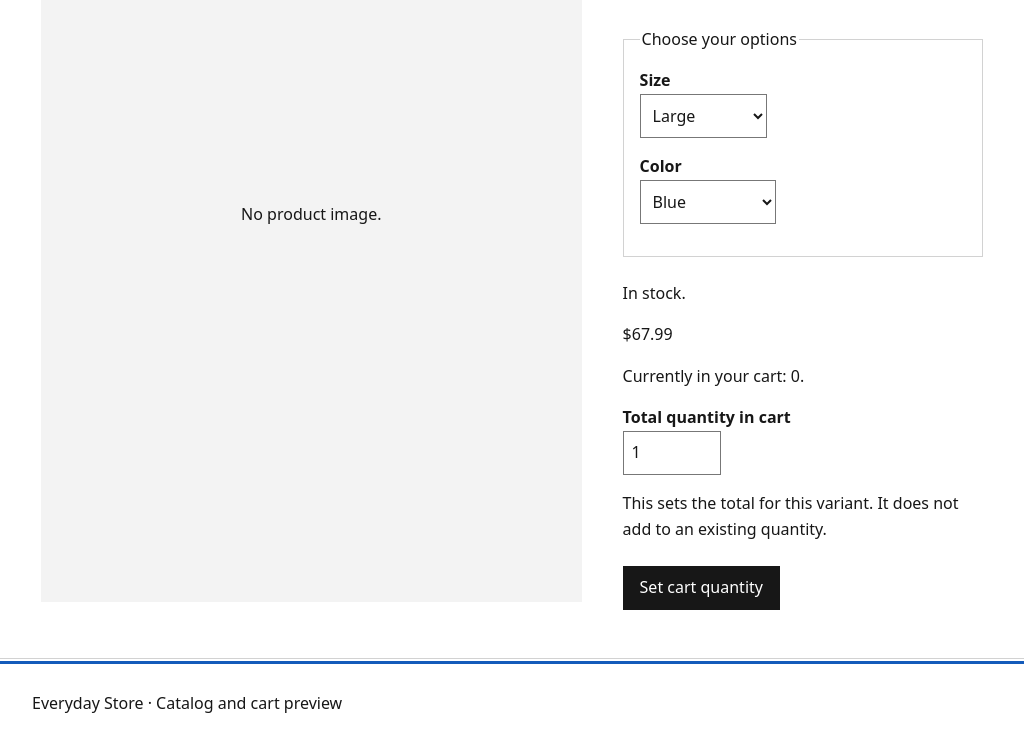
storefront composition › announces a removed line and moves focus to the cart heading
(page scrolled)
Click the button "Set cart quantity". click: point(701, 588)
box: [623,566,780,610]
(page scrolled)
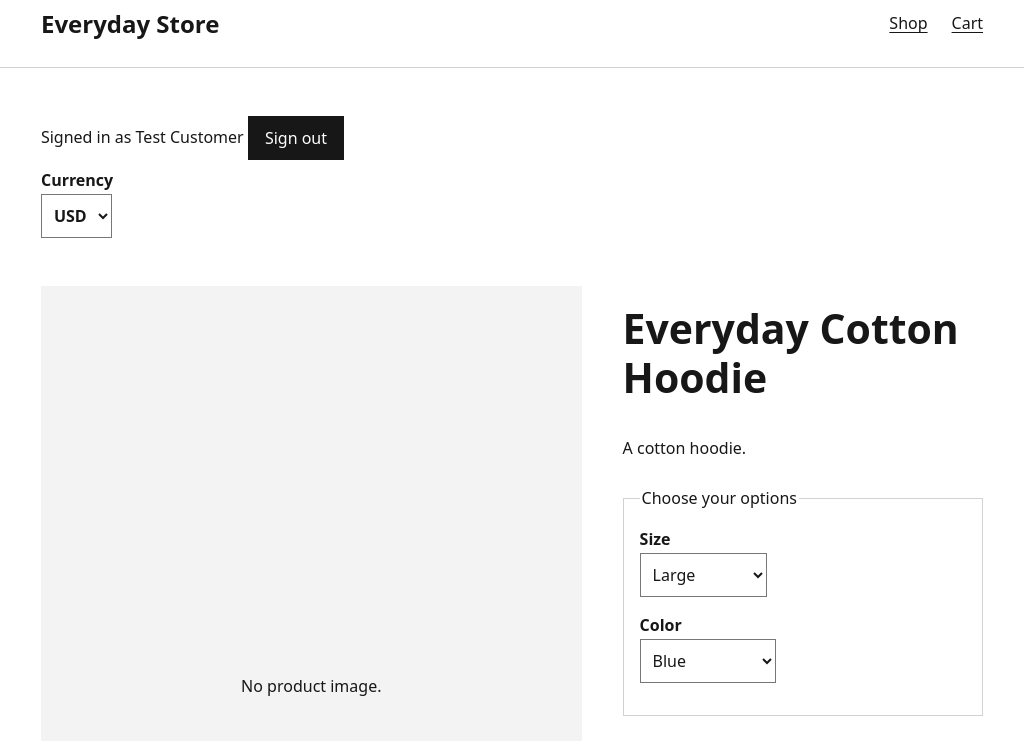
Click the link "Cart". click: point(967, 24)
box: [952,11,983,37]
(page scrolled)
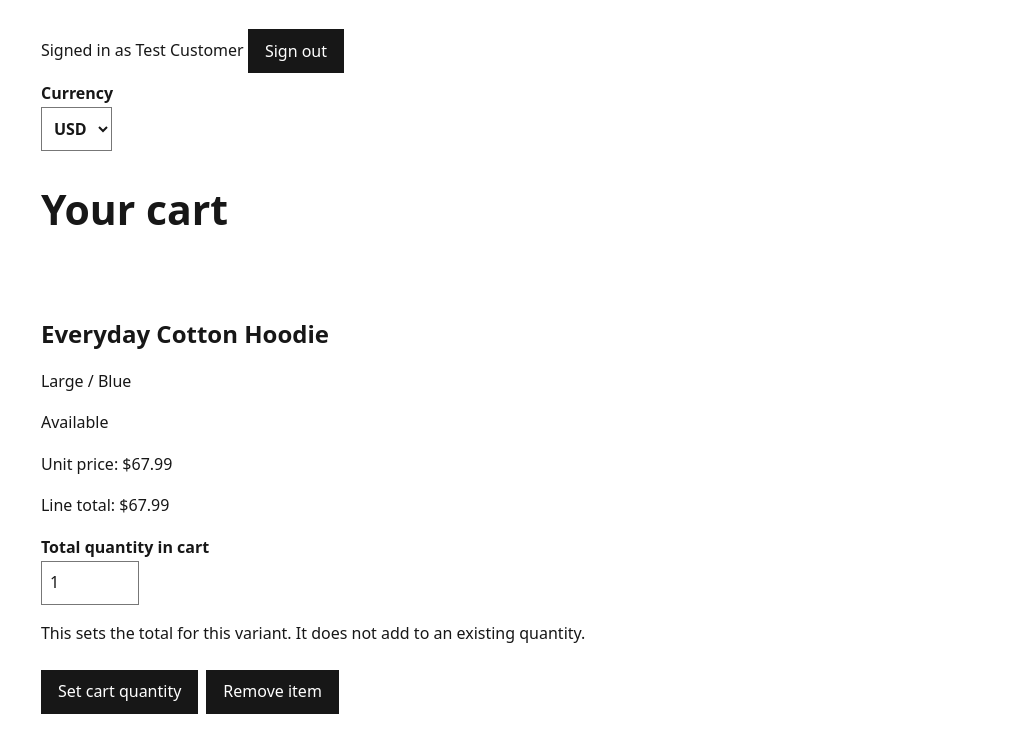
Click the button "Remove item". click: point(273, 692)
box: [206,670,339,714]
(page scrolled)
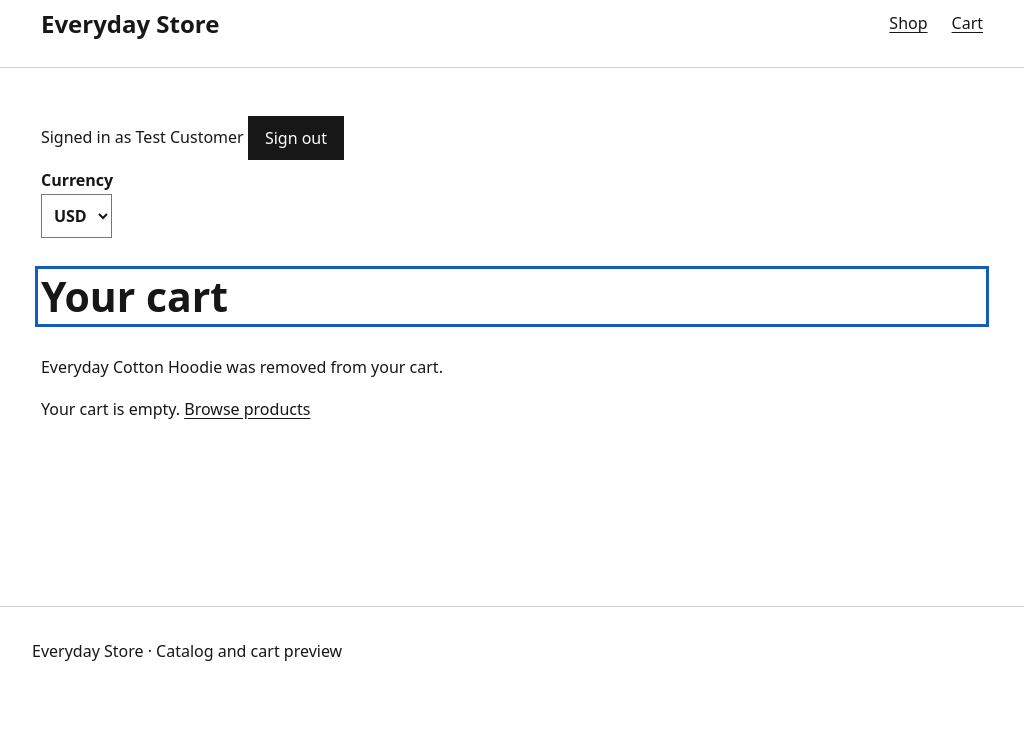
Expected: the text "Everyday Cotton Hoodie was removed from your cart." is shown, [41,356,443,378]
Expected: the text "Your cart is empty." is shown, [41,398,184,420]
